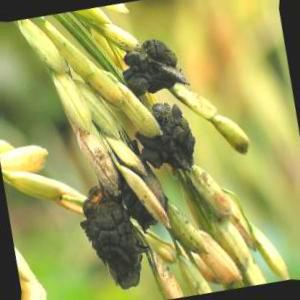Leaf_Scald: (87, 191, 142, 287), (127, 39, 174, 100), (154, 107, 196, 171)
